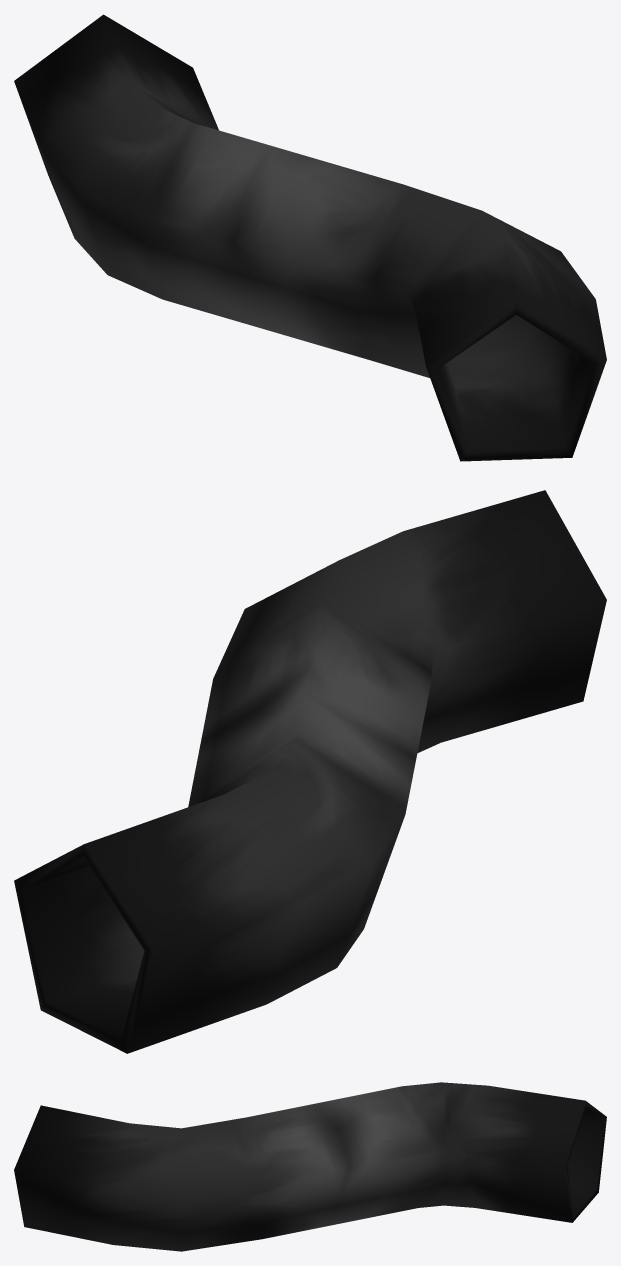
File: tube_type_3.fbx
3 views of the same model, one above another, from view 1: azimuth 30°, elevation 25°; view 2: azimuth 150°, elevation 25°; view 3: azimuth 270°, elevation 25° (orthographic). The views are drawn at different scales.
Visible parts, largest first — view 1: tube_type_3; view 2: tube_type_3; view 3: tube_type_3.
Boxes of the visible parts, x1,y1,x2,y2 form: tube_type_3: (14,14,606,461); tube_type_3: (14,490,606,1053); tube_type_3: (14,1082,606,1251).
Size of the model in its own units: 367 by 186 by 935.
Materials: 1 (1 with a texture image).
